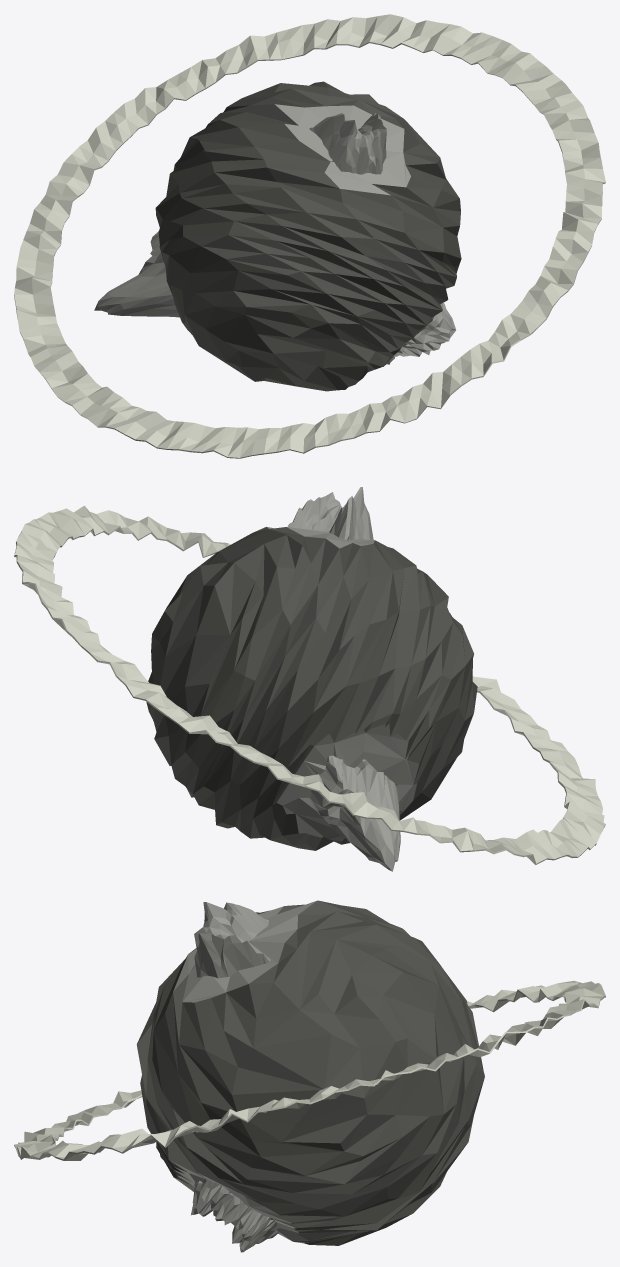
The model's file is DD_Planet.fbx.
3 renders of one model, top to bottom at view 1: azimuth 30°, elevation 25°; view 2: azimuth 150°, elevation 25°; view 3: azimuth 270°, elevation 25°, orthographic. The views are drawn at different scales.
Visible parts, largest first — view 1: DD_Planet; view 2: DD_Planet; view 3: DD_Planet.
Part boxes in pixels (x1,y1,x2,y2): DD_Planet: [14, 14, 605, 458]; DD_Planet: [14, 487, 605, 871]; DD_Planet: [14, 900, 605, 1252].
Bounding box in the file's own units: 1922 × 1064 × 1747.
1 material, 1 textured.
